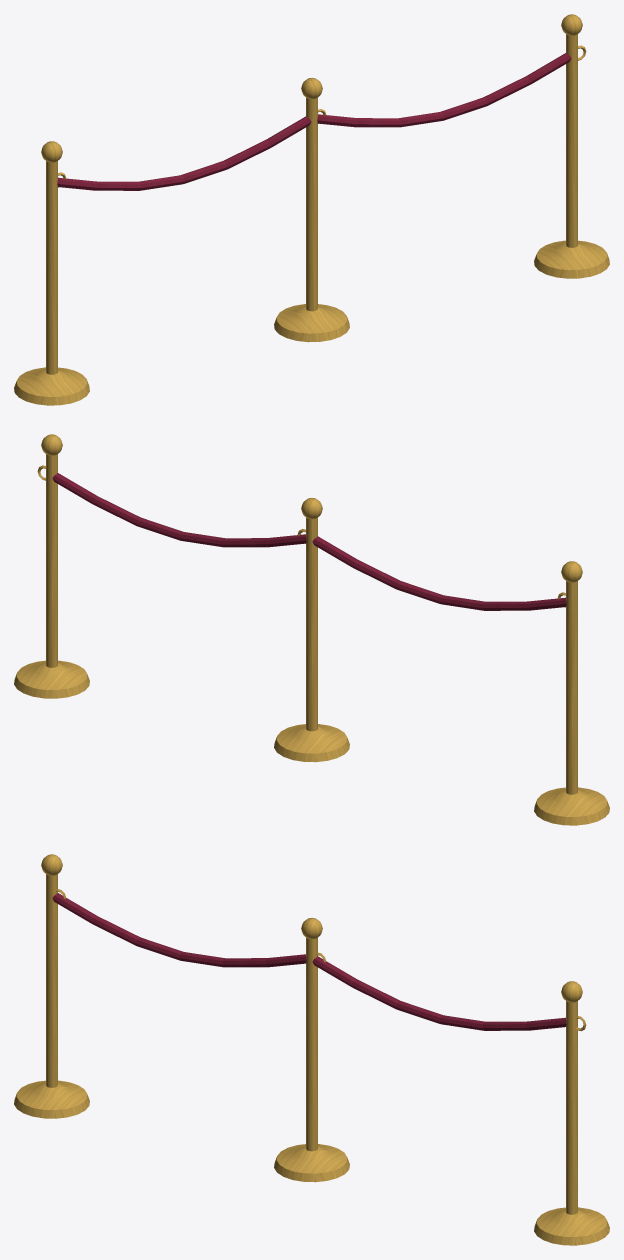
File: pedestais-com-cordao.glb
3 renders of one model, top to bottom at view 1: azimuth 30°, elevation 25°; view 2: azimuth 150°, elevation 25°; view 3: azimuth 330°, elevation 25°, orthographic.
Parts seen in each view (by area): view 1: coluna, coluna.001, coluna.002, base, base.002, base.001; view 2: coluna, coluna.001, coluna.002, base, base.002, base.001; view 3: coluna.002, coluna.001, coluna, base.002, base, base.001.
Boxes of the visible parts, <box> form: coluna: <box>46,161,57,374</box>; coluna.001: <box>306,97,317,311</box>; coluna.002: <box>566,34,577,247</box>; base: <box>14,367,89,405</box>; base.002: <box>534,240,609,278</box>; base.001: <box>274,304,349,342</box>; coluna: <box>566,581,577,794</box>; coluna.001: <box>306,517,317,731</box>; coluna.002: <box>46,454,57,667</box>; base: <box>534,787,609,825</box>; base.002: <box>14,660,89,698</box>; base.001: <box>274,724,349,762</box>; coluna.002: <box>566,1001,577,1214</box>; coluna.001: <box>306,937,317,1151</box>; coluna: <box>46,874,57,1087</box>; base.002: <box>534,1207,609,1245</box>; base: <box>14,1080,89,1118</box>; base.001: <box>274,1144,349,1182</box>.
Size of the model in its own units: 2.48 by 1 by 0.28.
Materials: 2 (2 with a texture image).
